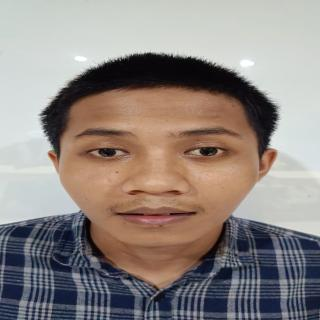Takut: (51, 80, 266, 256)
